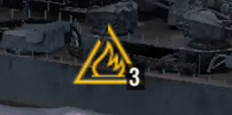3fire: (63, 47, 146, 92)
